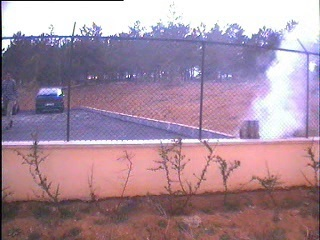smoke: (233, 20, 320, 141)
